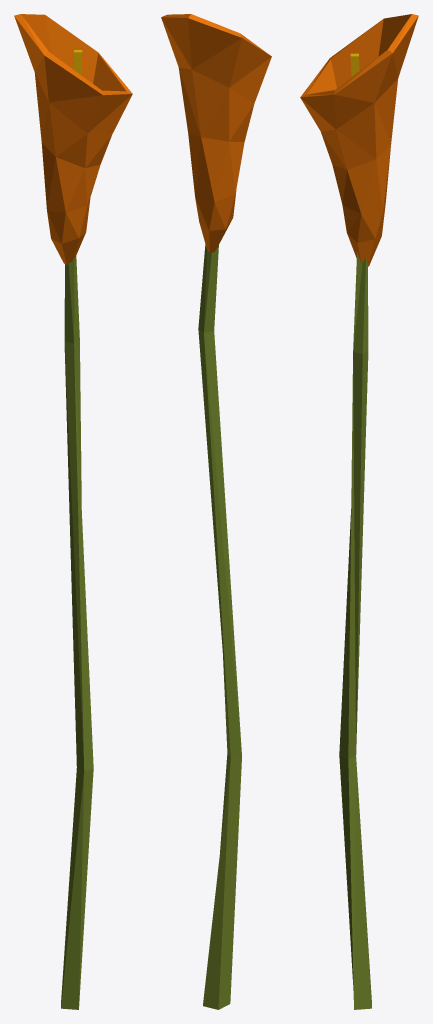
Rendered from Flower 5_1.fbx.
The picture shows the model from 3 angles, left to right: view 1: azimuth 90°, elevation 25°; view 2: azimuth 150°, elevation 25°; view 3: azimuth 270°, elevation 25°; orthographic projection.
Parts seen in each view (by area): view 1: Flower 5_1; view 2: Flower 5_1; view 3: Flower 5_1.
Boxes of the visible parts, x1=… form: Flower 5_1: x1=14, y1=14, x2=132, y2=1009; Flower 5_1: x1=161, y1=14, x2=271, y2=1009; Flower 5_1: x1=300, y1=14, x2=418, y2=1009.
Size of the model in its own units: 0.0649 by 0.7561 by 0.0821.
